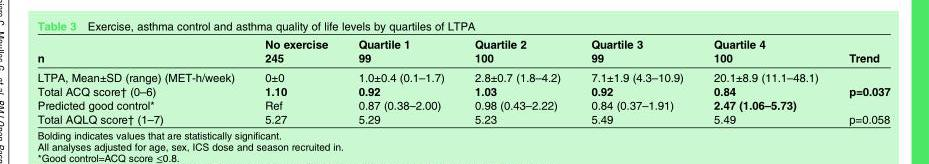table: (37, 36, 890, 124)
table column: (37, 36, 250, 124), (698, 36, 834, 124), (576, 36, 698, 124), (459, 36, 576, 124), (343, 36, 459, 124), (250, 36, 343, 124), (834, 36, 890, 124)
table column header: (37, 36, 890, 67)
table row: (37, 50, 890, 67), (37, 67, 890, 83), (37, 36, 890, 50), (37, 83, 890, 97), (37, 97, 890, 111), (37, 111, 890, 124)
table spanning cell: (37, 36, 250, 67), (698, 36, 834, 67), (576, 36, 698, 67), (459, 36, 576, 67), (343, 36, 459, 67), (250, 36, 343, 67), (834, 36, 890, 67)
